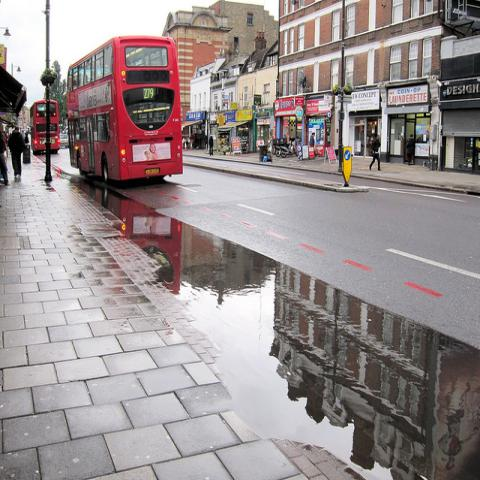bus: (67, 40, 179, 193), (29, 99, 60, 156)
